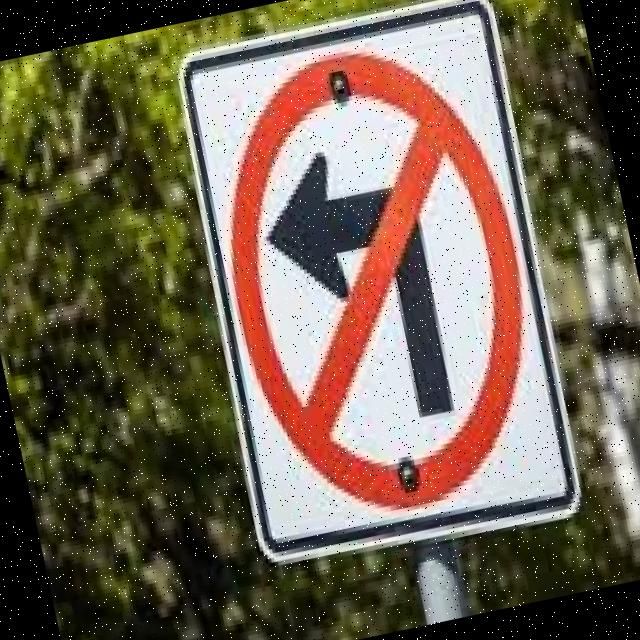do_not_turn_right: (187, 25, 566, 542)
